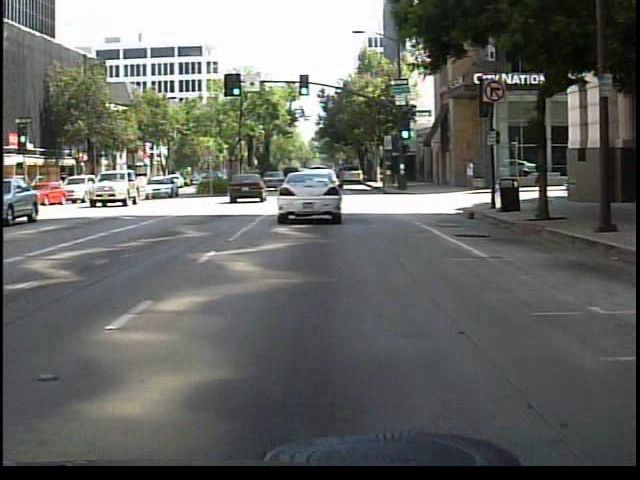person: (461, 154, 478, 194)
